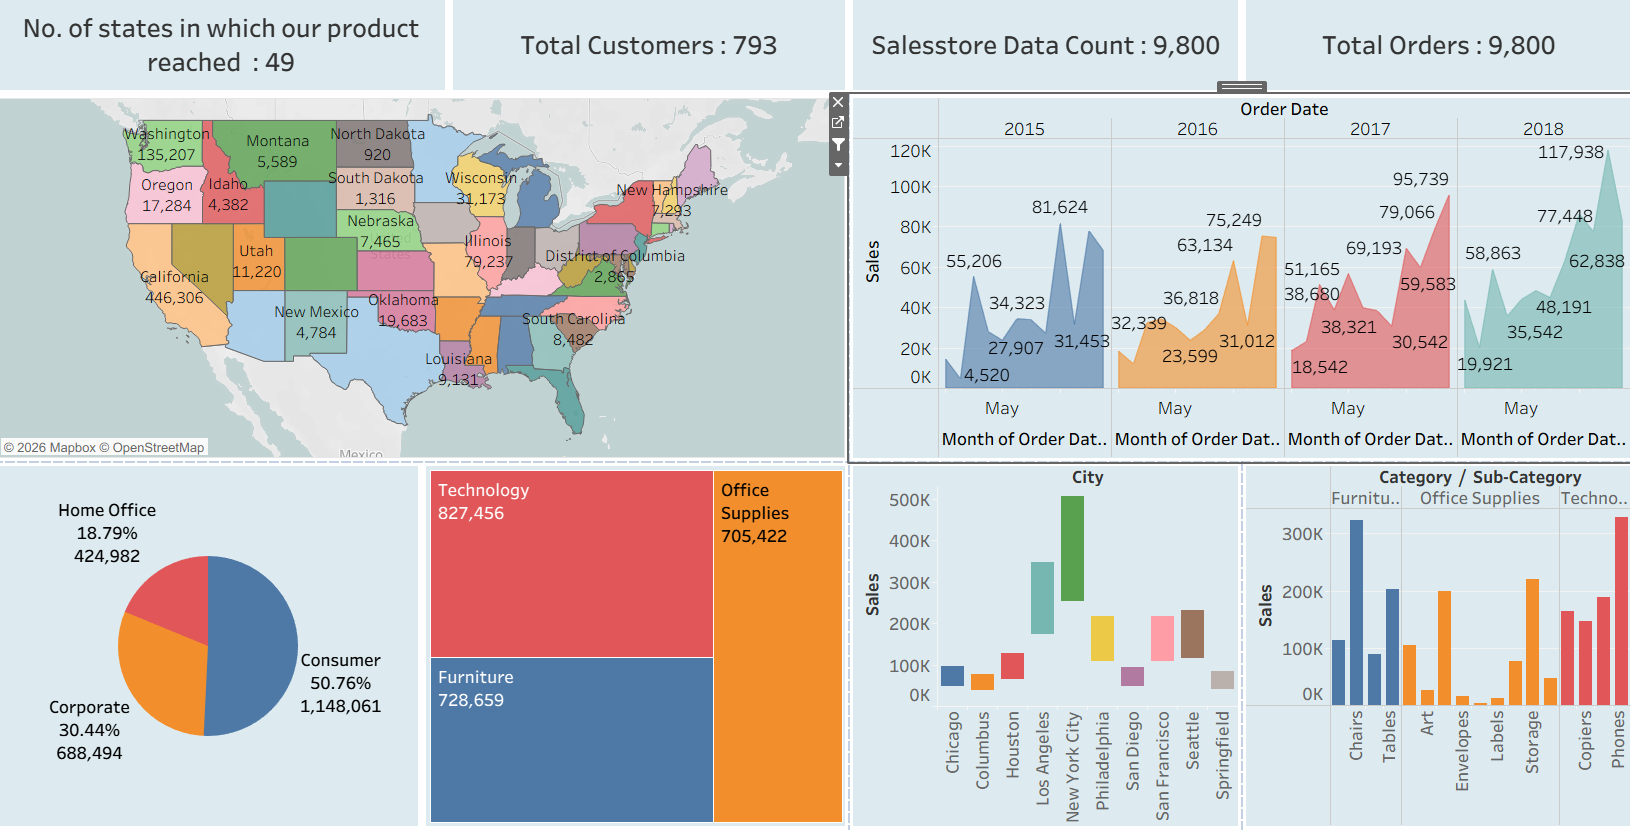

The page's visual inventory and layout, read from the dashboard file:
{"tool":"tableau","page":{"name":"Dashboard 1","canvas":[1000,1000],"units":"permille","ordinal":0},"visuals":[{"type":"worksheet","title":"States count","mark":"Automatic","box":[4.8,9.4,274.6,116.3]},{"type":"worksheet","title":"Total No. of Customers KPI","mark":"Automatic","box":[279.4,9.4,241.4,116.3]},{"type":"worksheet","title":"Salesstore Data Count KPI","mark":"Automatic","box":[520.8,9.4,237.2,116.3]},{"type":"worksheet","title":"Total Orders KPI","mark":"Automatic","box":[758,9.4,237.2,116.3]},{"type":"worksheet","title":"State performance based on the sum of sales","mark":"Multipolygon","box":[4.8,125.7,516.2,432.4]},{"type":"worksheet","title":"Area Chart of each year","mark":"Area","rows":["Sales"],"cols":["Order Date","Order Date"],"box":[521,125.7,474.2,432.4]},{"type":"worksheet","title":"Sales According to the segments","mark":"Pie","box":[4.8,558.2,258.1,432.4]},{"type":"worksheet","title":"Tree Map in accordance with category","mark":"Automatic","box":[262.9,558.2,258.1,432.4]},{"type":"worksheet","title":"Cities against its Sum of Sales","mark":"GanttBar","rows":["Sales"],"cols":["City"],"box":[521,558.2,237.1,432.4]},{"type":"worksheet","title":"Bar Chart","mark":"Automatic","rows":["Sales"],"cols":["Category","Sub-Category"],"box":[758.1,558.2,237.1,432.4]}]}

Visuals, with their boxes on the dashboard's canvas, which has no fixed pixel size, in thousandths of its width and height (x1, y1, x2, y2). These are canvas units, not pixel positions in the 1630x831 screenshot, which may show the page scaled, cropped or inside an application window:
"States count" worksheet: l=5, t=9, r=279, b=126
"Total No. of Customers KPI" worksheet: l=279, t=9, r=521, b=126
"Salesstore Data Count KPI" worksheet: l=521, t=9, r=758, b=126
"Total Orders KPI" worksheet: l=758, t=9, r=995, b=126
"State performance based on the sum of sales" worksheet (Multipolygon marks): l=5, t=126, r=521, b=558
"Area Chart of each year" worksheet (Area marks): l=521, t=126, r=995, b=558
"Sales According to the segments" worksheet (Pie marks): l=5, t=558, r=263, b=991
"Tree Map in accordance with category" worksheet: l=263, t=558, r=521, b=991
"Cities against its Sum of Sales" worksheet (GanttBar marks): l=521, t=558, r=758, b=991
"Bar Chart" worksheet: l=758, t=558, r=995, b=991
